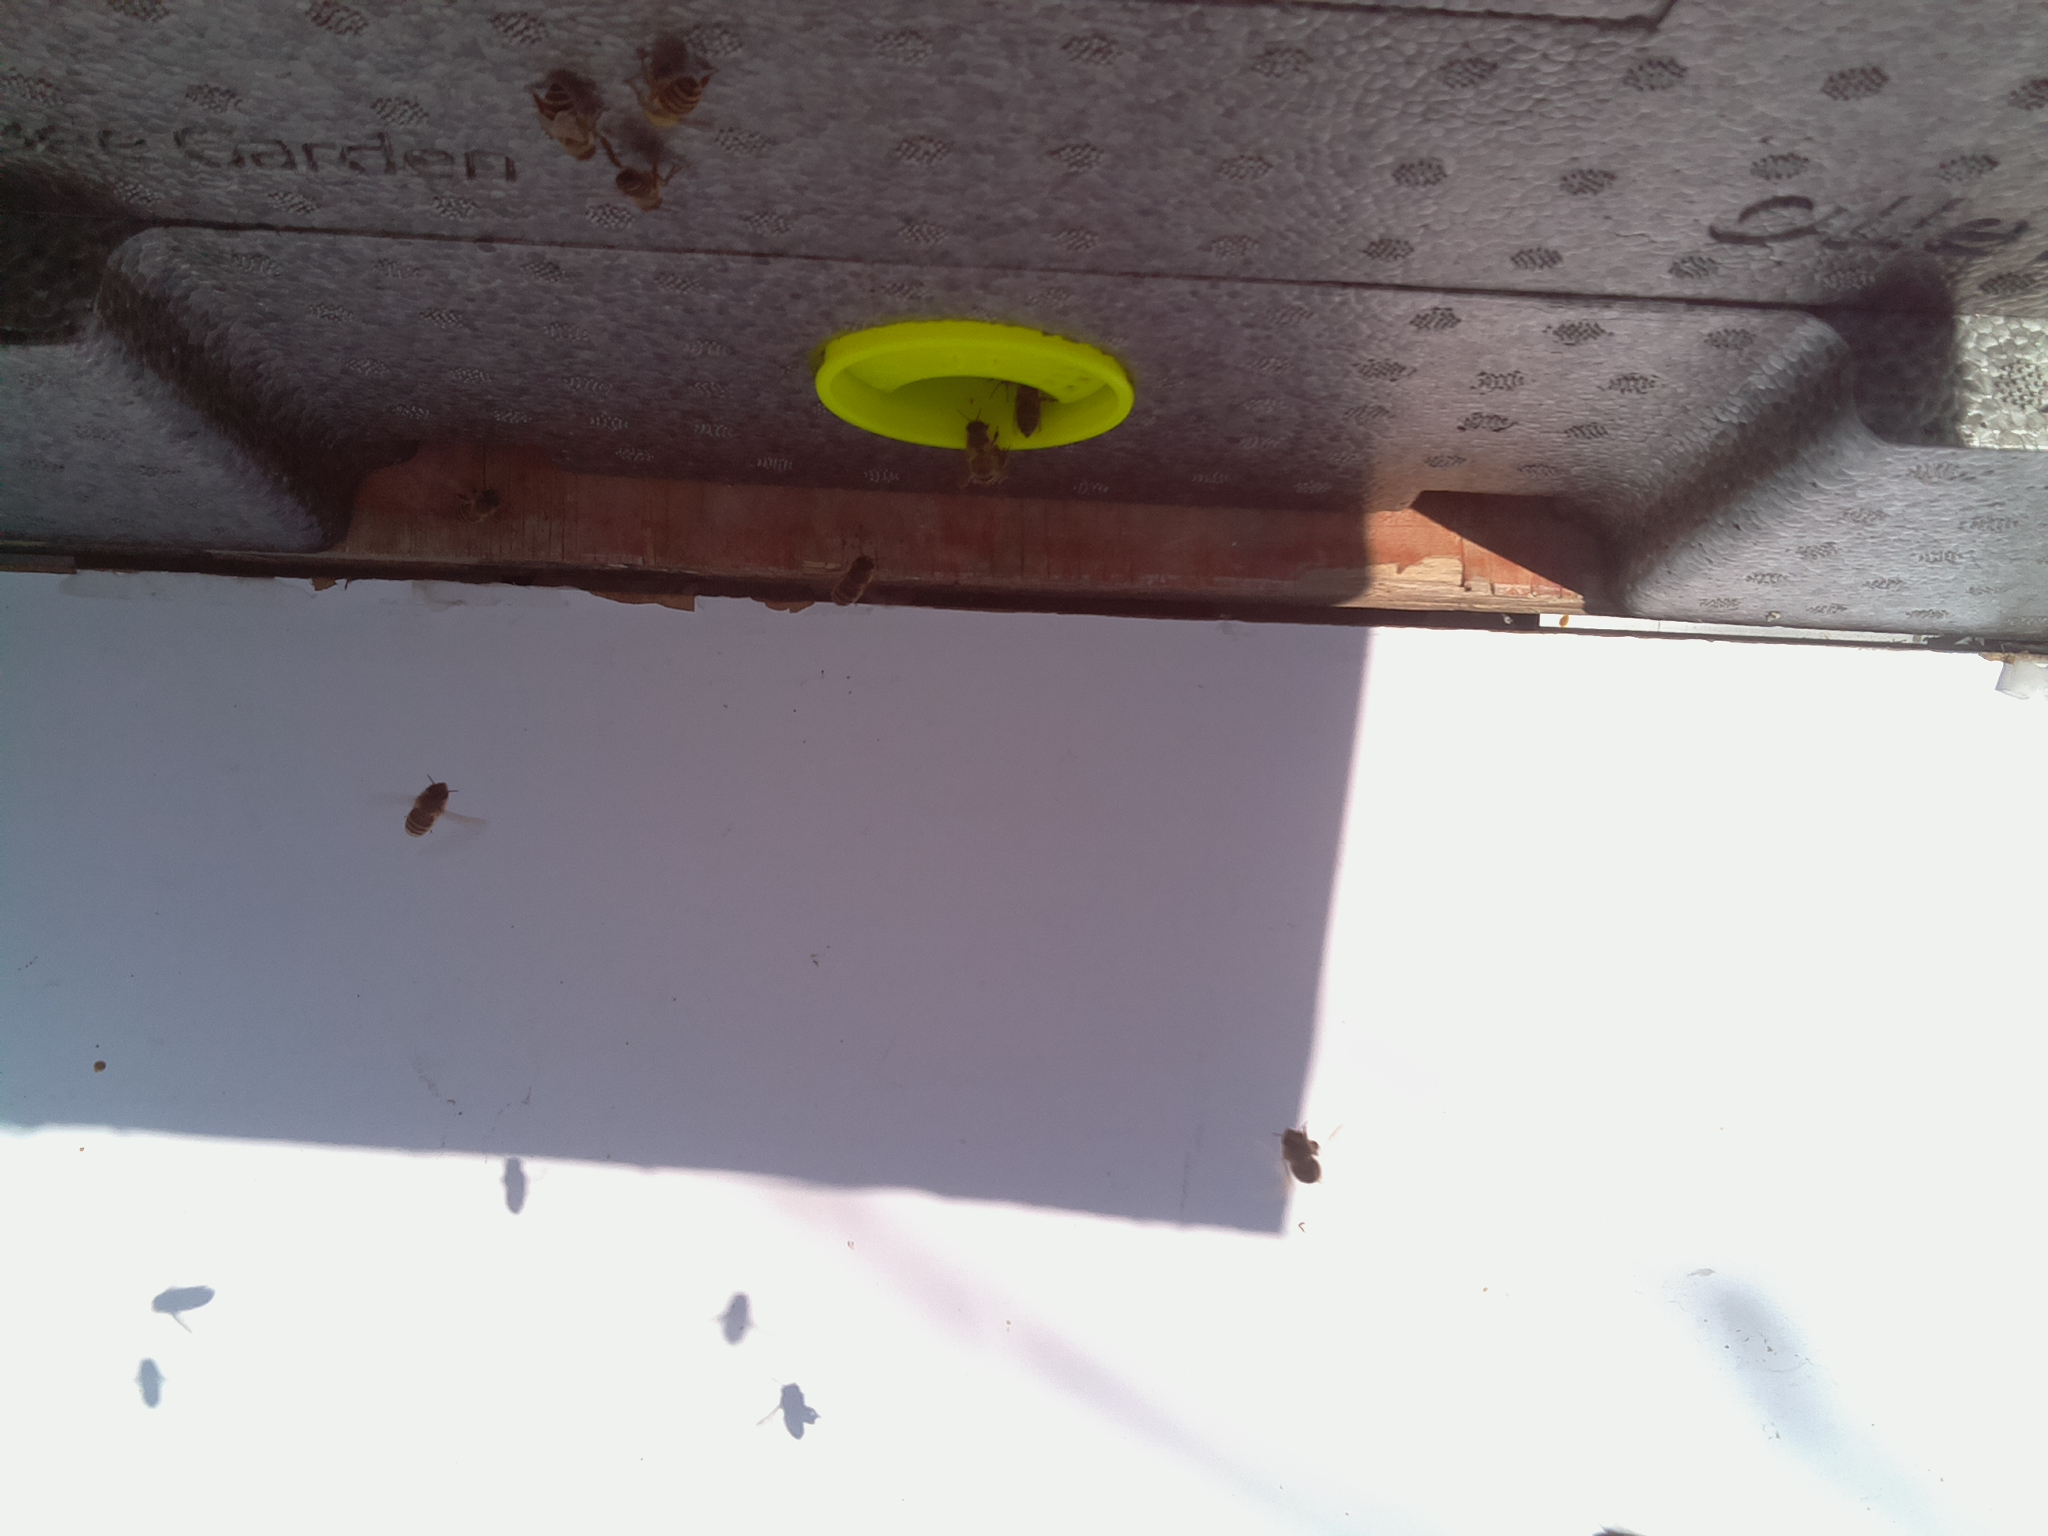bee: (402, 778, 453, 840)
